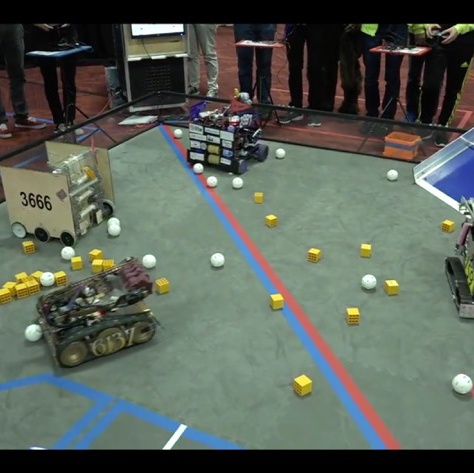robot: (29, 253, 167, 375), (3, 140, 122, 252), (183, 84, 270, 176), (442, 190, 474, 323)
